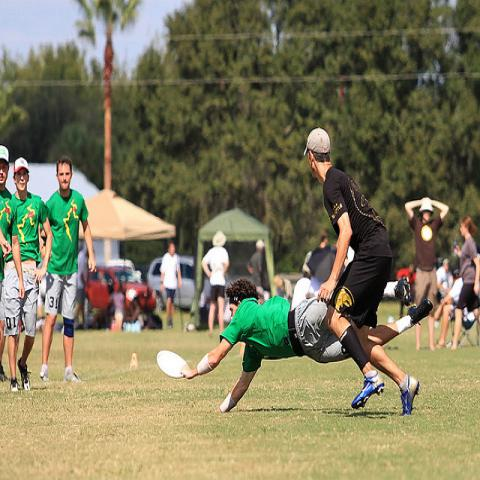car: (147, 255, 211, 326), (83, 264, 157, 316)
